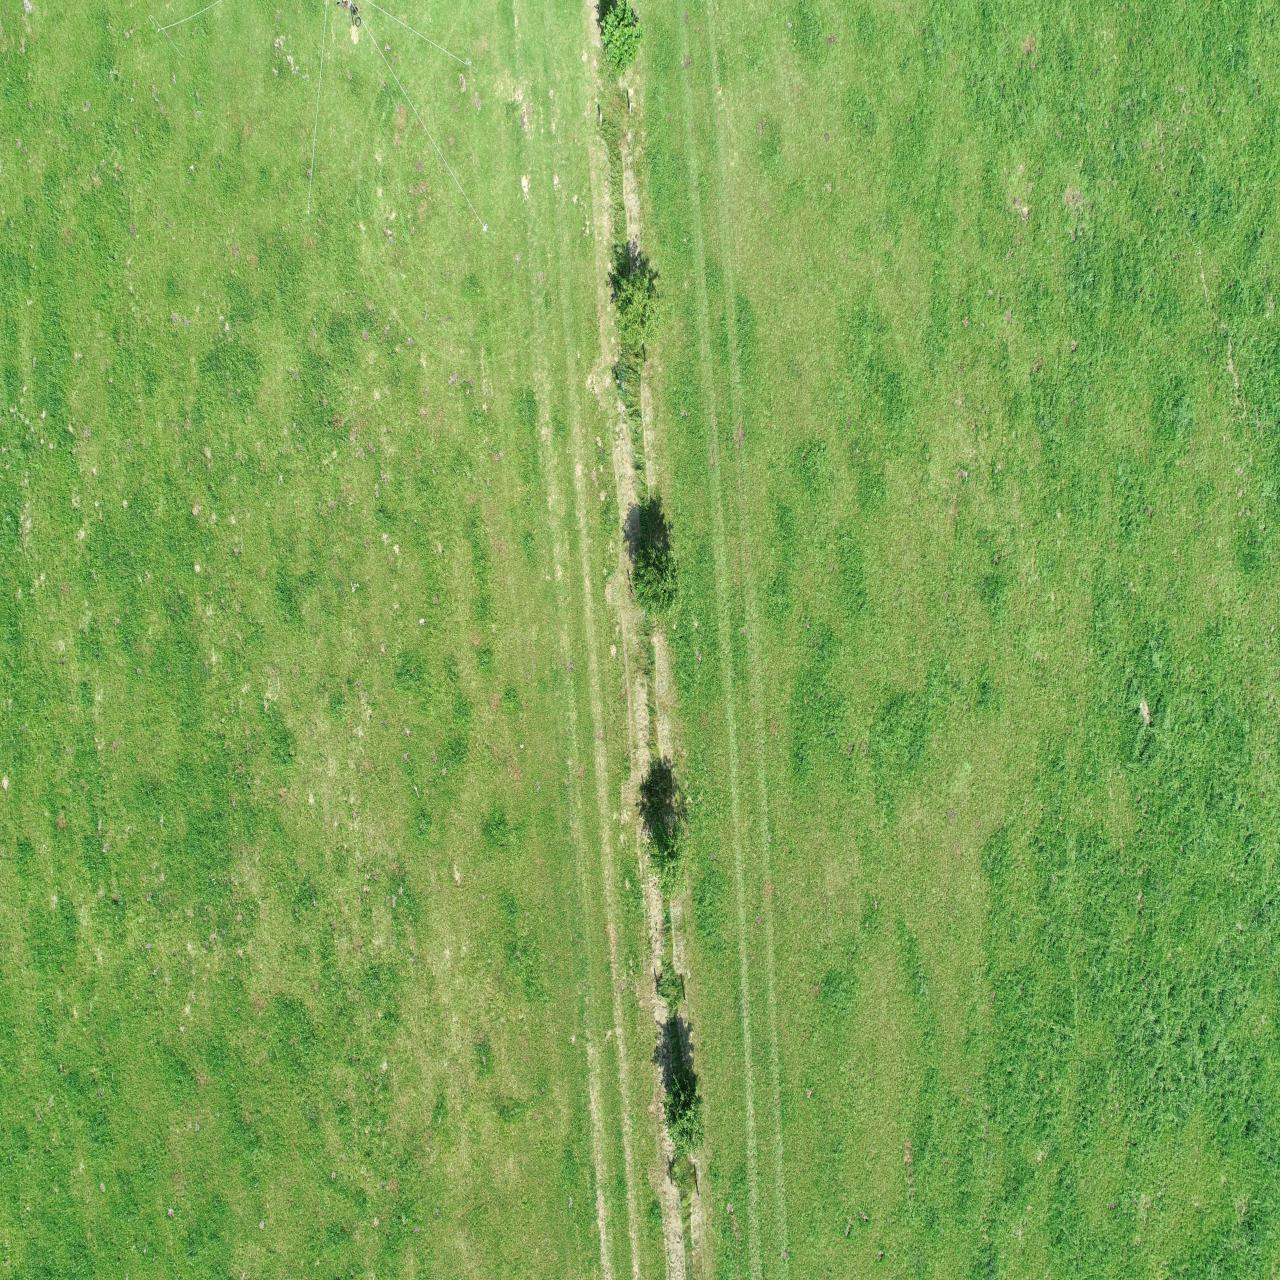cow: (974, 877, 996, 941), (883, 1138, 914, 1173)
